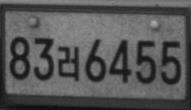3: (32, 37, 55, 81)
4: (107, 38, 132, 83)
5: (159, 40, 183, 84), (134, 39, 157, 84)
6: (83, 38, 107, 83)
8: (8, 35, 31, 80)
러: (57, 45, 80, 80)
